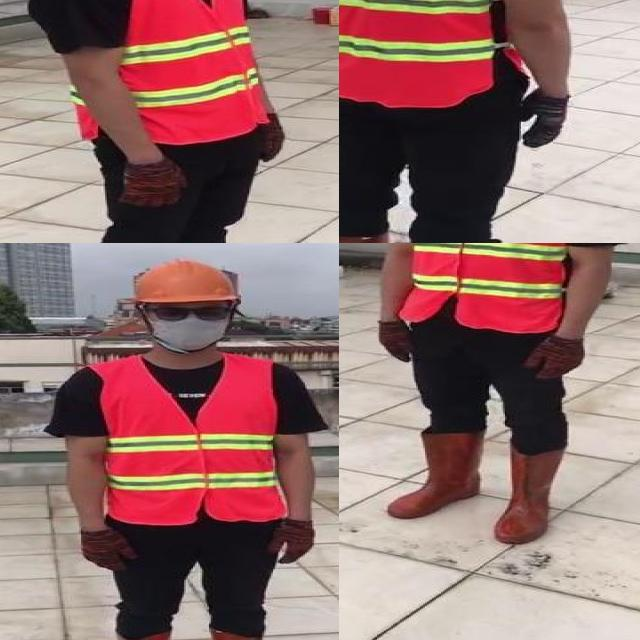boots: (389, 431, 484, 520), (494, 446, 568, 545)
face_mask: (147, 301, 232, 350)
glasses: (147, 300, 236, 326)
hand_glove: (116, 161, 190, 210), (516, 90, 570, 146), (521, 334, 585, 379), (79, 528, 143, 570), (270, 519, 316, 564), (375, 322, 416, 363)
head_helmet: (124, 260, 241, 307)
person: (43, 257, 339, 640), (355, 243, 640, 547), (7, 0, 339, 243), (339, 0, 618, 243)
vest: (25, 0, 268, 145), (94, 356, 280, 522), (339, 0, 519, 109), (400, 243, 578, 332)
